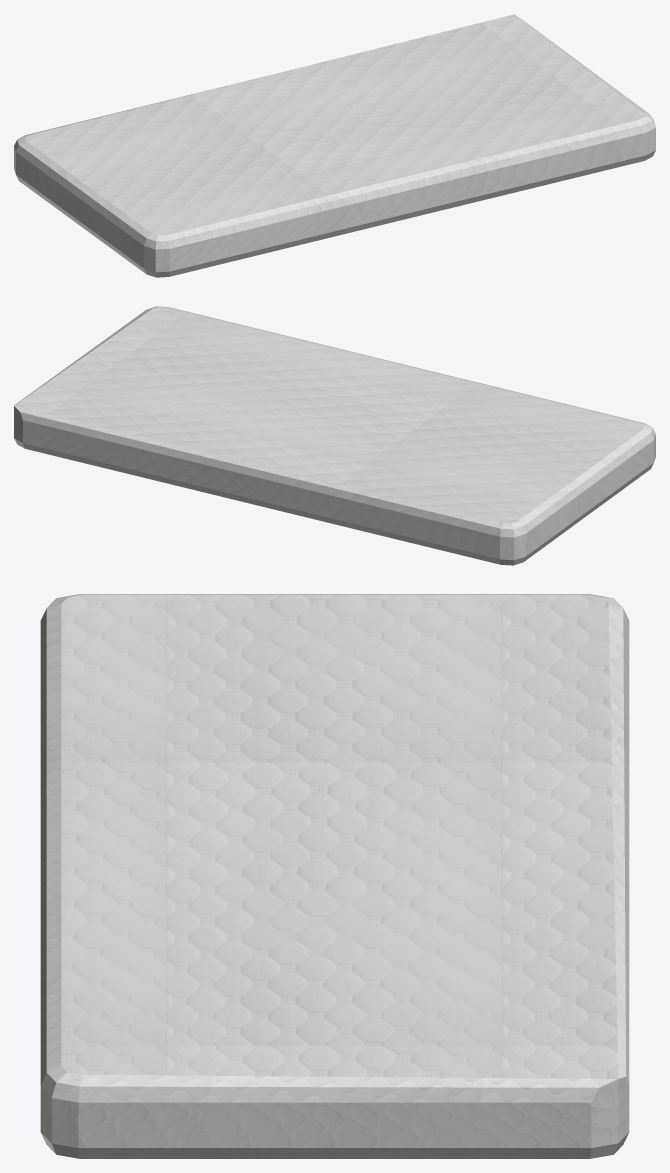
File: Cama - Colchão.fbx
3 views of the same model, one above another, from view 1: azimuth 30°, elevation 25°; view 2: azimuth 150°, elevation 25°; view 3: azimuth 270°, elevation 25° (orthographic). The views are drawn at different scales.
Visible parts, largest first — view 1: Cube.045; view 2: Cube.045; view 3: Cube.045.
Part boxes in pixels (bbox=[...]): Cube.045: bbox=[14, 14, 655, 277]; Cube.045: bbox=[14, 306, 655, 565]; Cube.045: bbox=[40, 594, 629, 1158].
Size of the model in its own units: 640 by 50 by 320.
